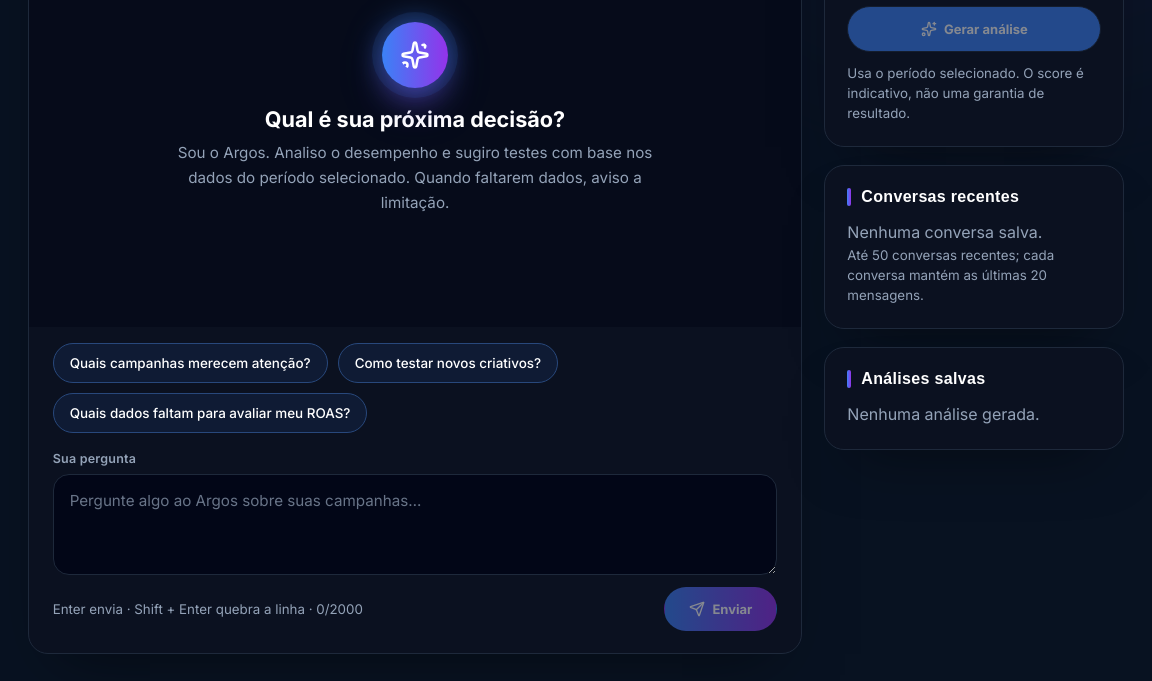
it: Assistant › apresenta a IA pelo nome Argos e assina as respostas com ele
This screenshot has width=1152, height=681.
(page scrolled)
In the text box labelled "Sua pergunta": (415, 525) [53, 474, 777, 575], type "Oi"
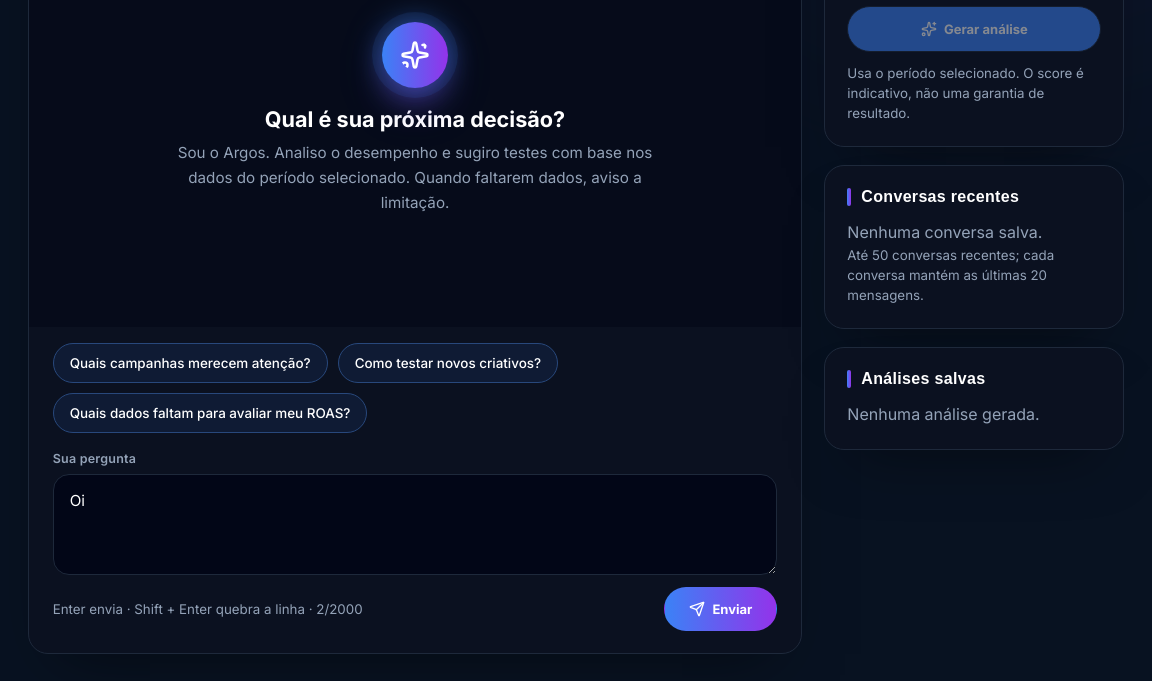
Click the button "Enviar": (721, 609) [664, 587, 777, 631]
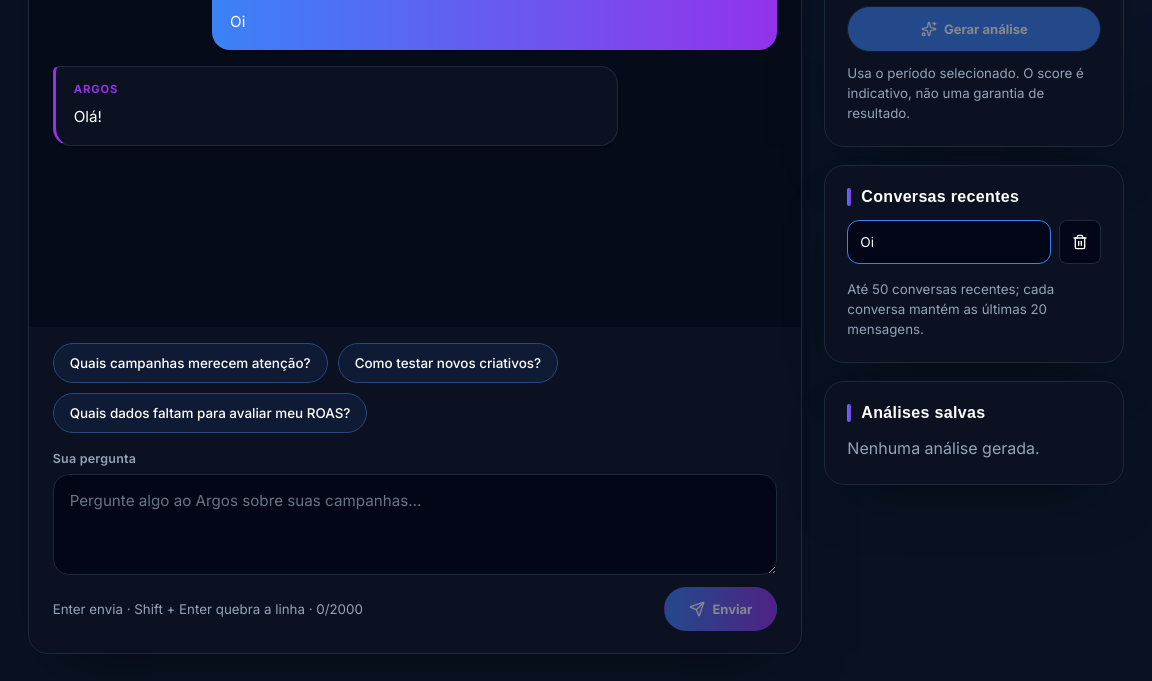
Expected: the text "Argos" is shown, [74, 82, 118, 96]
Now the text "Olá!" is shown, box [74, 107, 102, 126]
